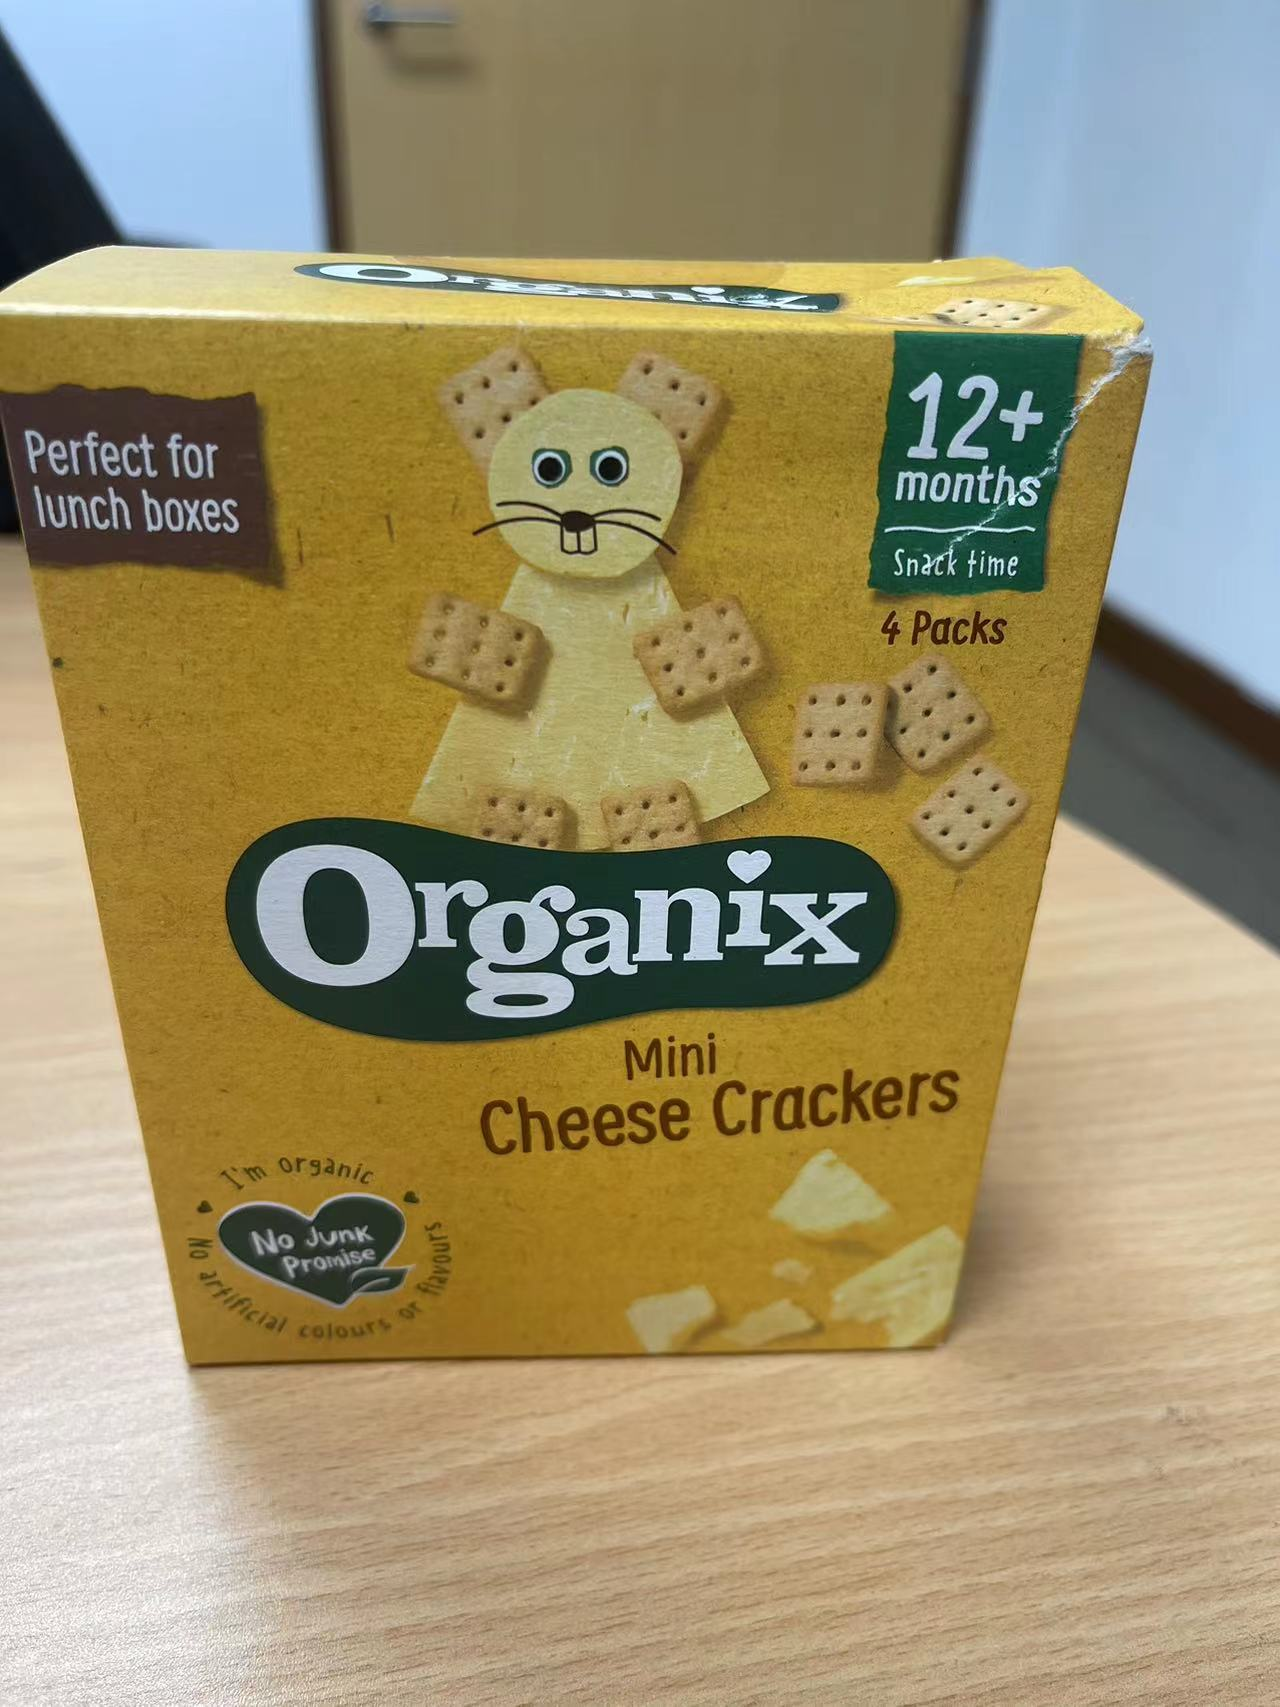Crackers_1-99g_NonHalal_NonHealthy: (1, 245, 1148, 1376)
